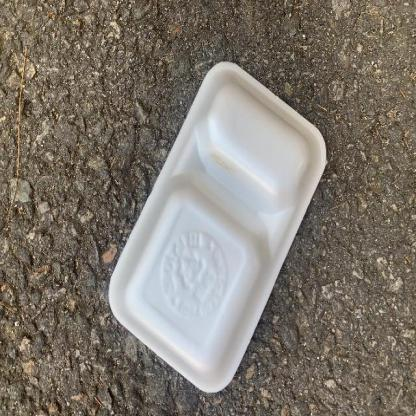Glass Cup: (109, 62, 327, 393), (109, 61, 325, 393)
